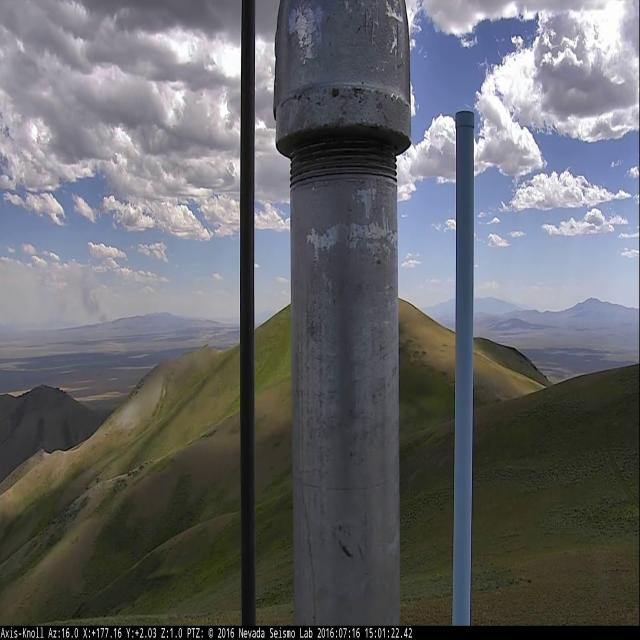smoke: (76, 271, 118, 323), (38, 294, 67, 328)
